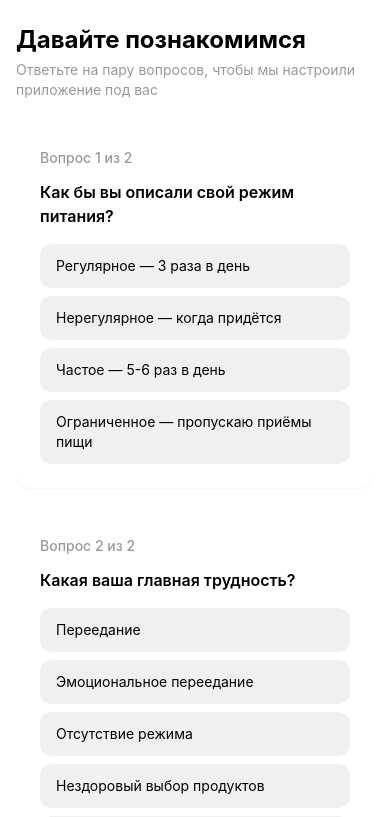
Test case: OnboardingPage › enables submit after answering all questions
Click the button "Регулярное — 3 раза в день": x=195, y=266 [40,244,350,288]
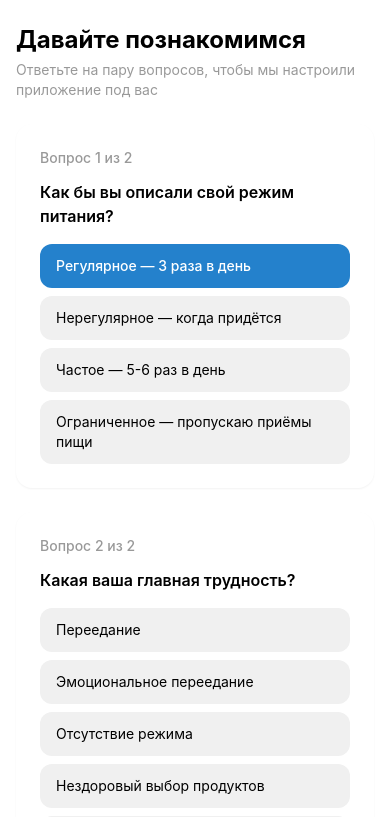
Click the button "Переедание": x=98, y=630 [40,608,350,652]
(page scrolled)
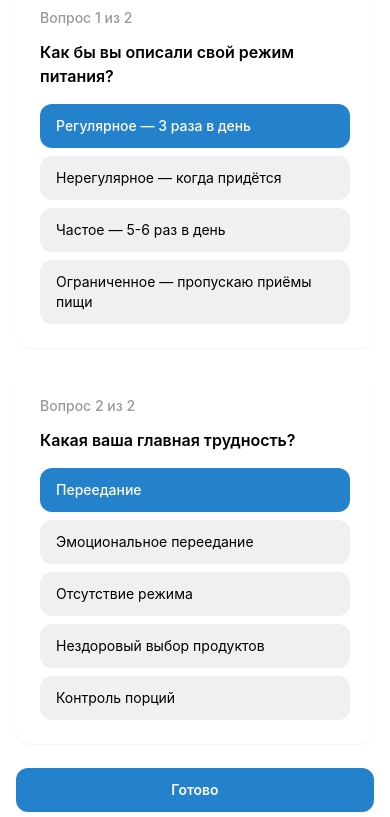
Now the button "Готово" is enabled, box [16,768,374,812]
